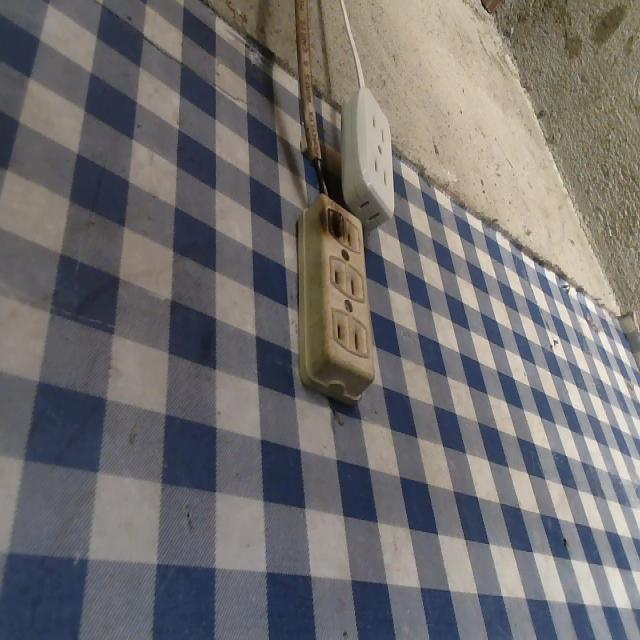-: (318, 197, 349, 252)
